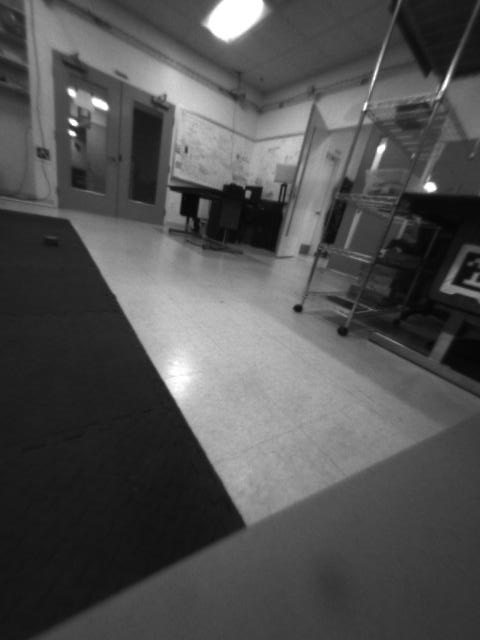dogtoy: (39, 228, 67, 252)
